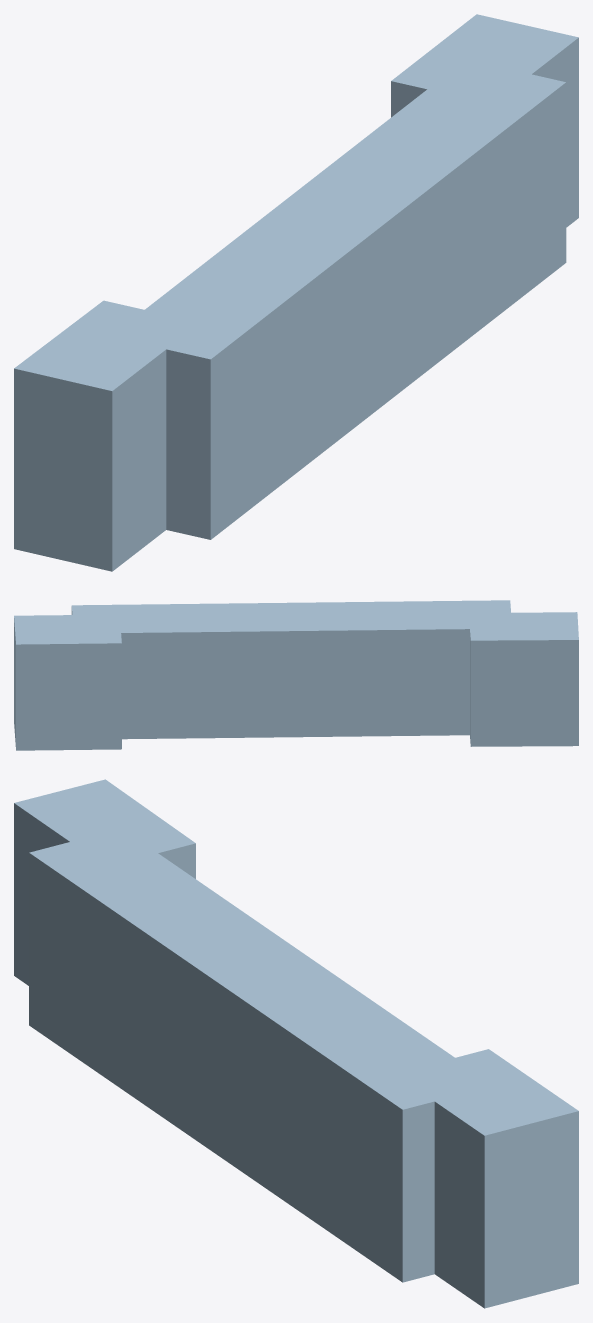
The model's file is osm_way_225255198.glb.
3 renders of one model, top to bottom at view 1: azimuth 30°, elevation 25°; view 2: azimuth 150°, elevation 25°; view 3: azimuth 270°, elevation 25°, orthographic. The views are drawn at different scales.
Parts seen in each view (by area): view 1: osm_way_225255198; view 2: osm_way_225255198; view 3: osm_way_225255198.
Part boxes in pixels (x1,y1,x2,y2): osm_way_225255198: (14,14,578,571); osm_way_225255198: (14,600,578,750); osm_way_225255198: (14,779,578,1308).
Bounding box in the file's own units: 84.9 × 19.2 × 56.89.
